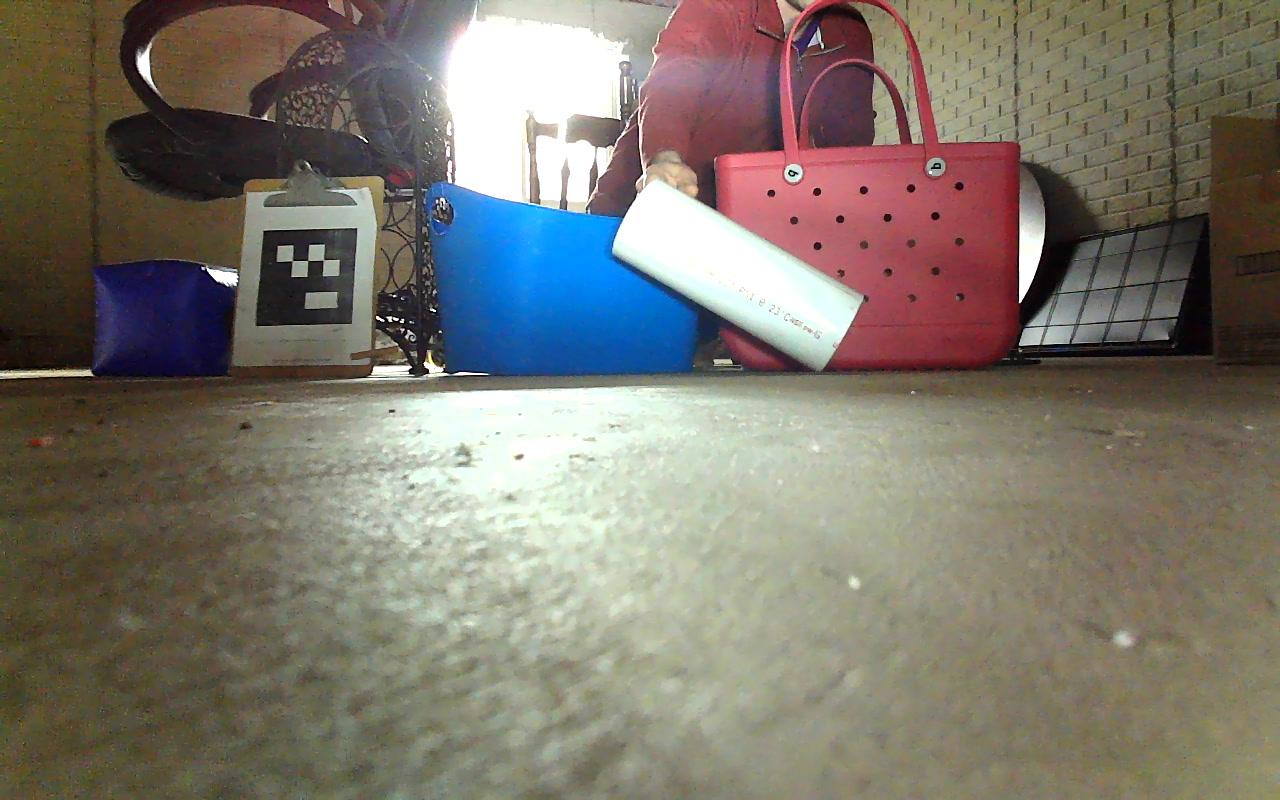coral: (610, 175, 867, 378)
